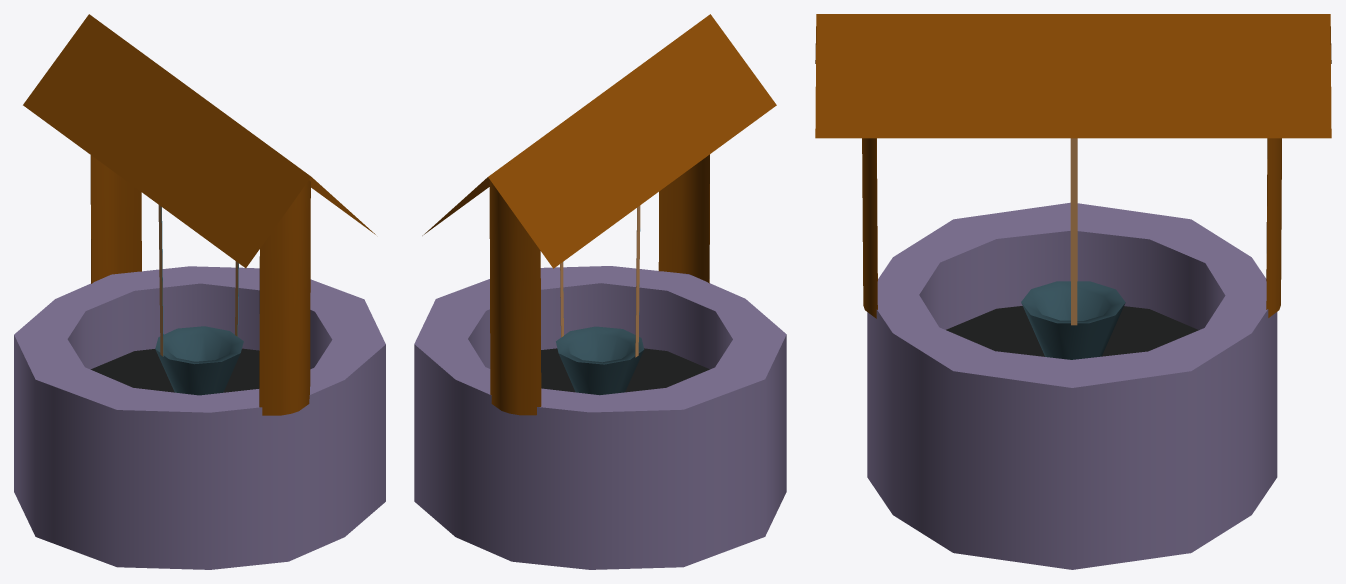
The model's file is SM_Pozo.fbx.
3 views of the same model, side by side, from view 1: azimuth 30°, elevation 25°; view 2: azimuth 150°, elevation 25°; view 3: azimuth 270°, elevation 25° (orthographic). The views are drawn at different scales.
Parts seen in each view (by area): view 1: Pozo_pueblo; view 2: Pozo_pueblo; view 3: Pozo_pueblo.
Boxes of the visible parts, box(x1,y1,x2,y2) form: Pozo_pueblo: box(14, 14, 385, 569); Pozo_pueblo: box(414, 14, 786, 569); Pozo_pueblo: box(815, 14, 1331, 569).
Bounding box in the file's own units: 0.6526 × 0.7601 × 0.7669.
